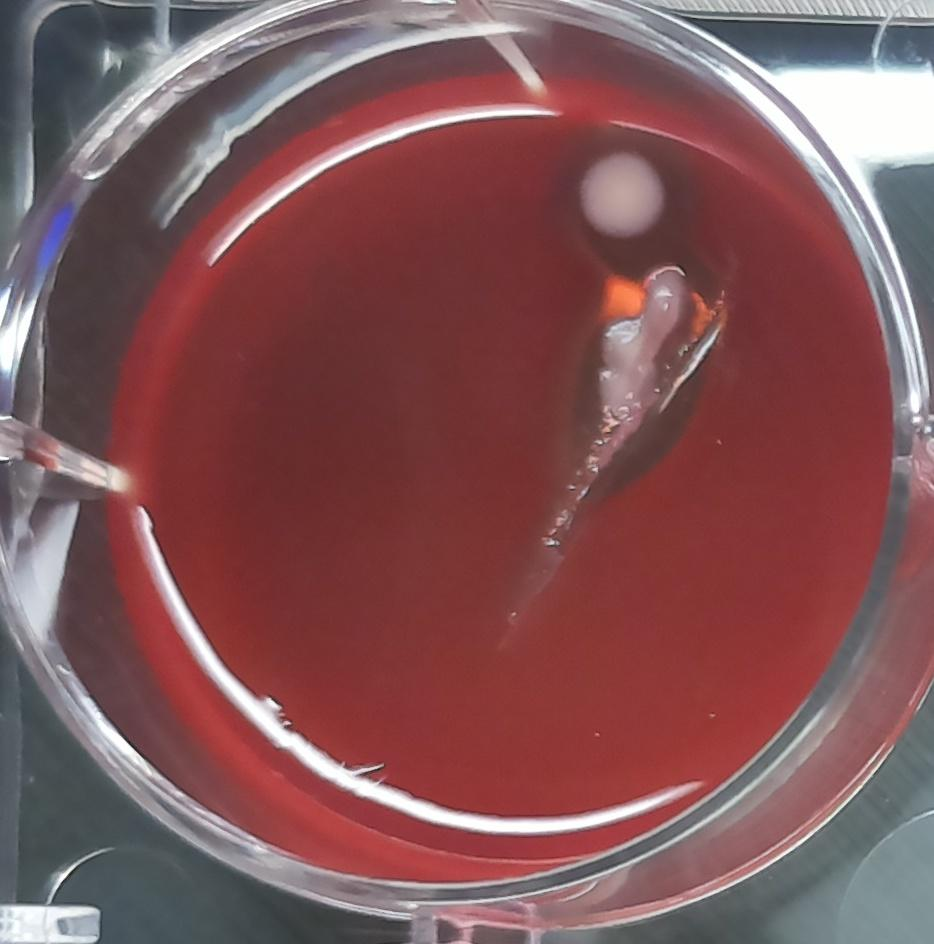bcereus: (566, 140, 675, 254)
